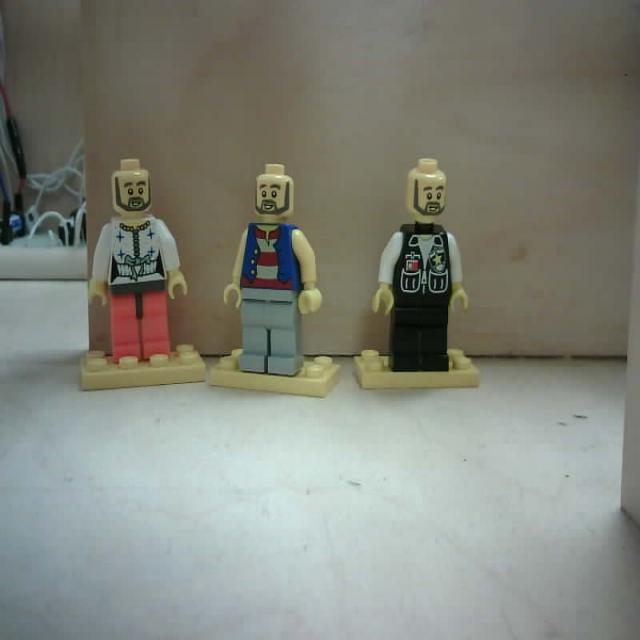Lego-People: (209, 164, 342, 406), (351, 156, 480, 393), (79, 157, 205, 396)
